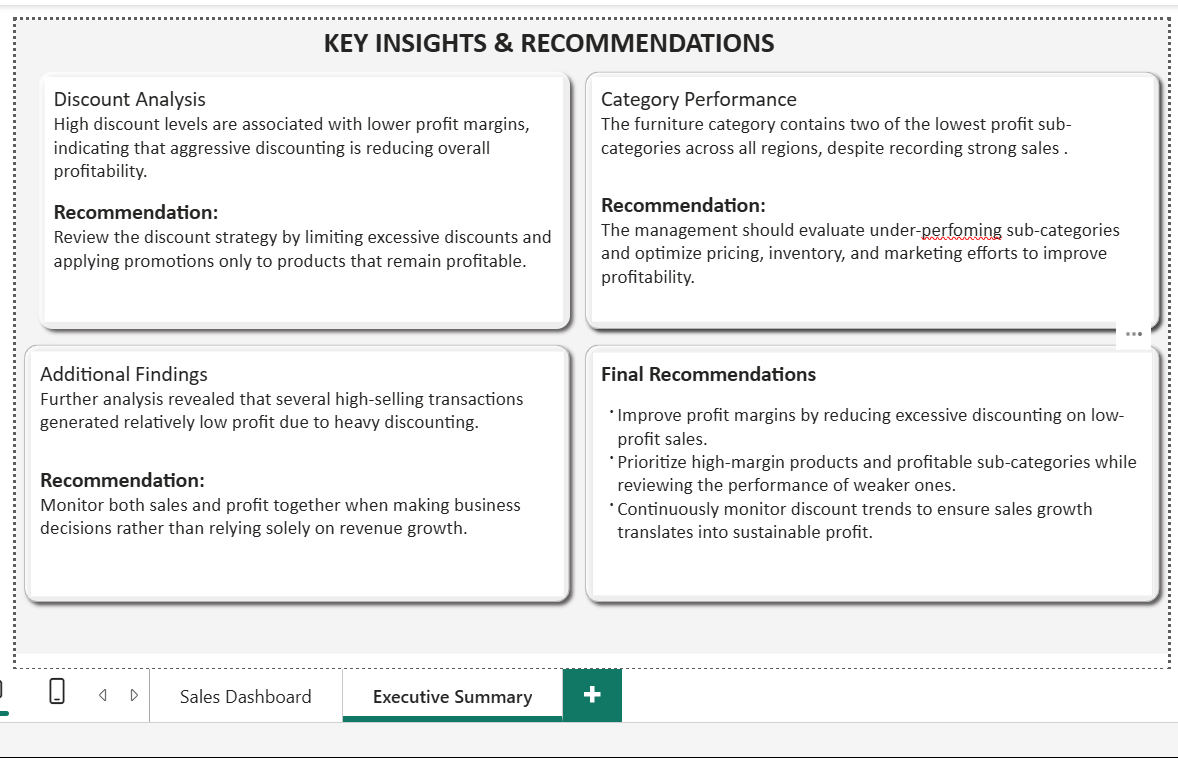

What the dashboard file says about the page in this screenshot:
{"tool":"powerbi","page":{"name":"Executive Summary","canvas":[1280,720],"ordinal":1},"visuals":[{"type":"textbox","box":[0,0,1280,704],"z":0},{"type":"shape","box":[16,48,608,304],"z":1},{"type":"shape","box":[624,48,656,304],"z":2},{"type":"shape","box":[0,352,624,304],"z":3},{"type":"shape","box":[624,352,656,304],"z":4},{"type":"textbox","box":[32,64,576,272],"z":5},{"type":"textbox","box":[640,64,624,272],"z":6},{"type":"textbox","box":[16,368,592,272],"z":7},{"type":"textbox","box":[640,368,624,272],"z":8}]}

Visuals, with their boxes on the page's 1280x720 design canvas (x1, y1, x2, y2). These are canvas units, not pixel positions in the 1178x758 screenshot, which may show the page scaled, cropped or inside an application window:
textbox: box(0, 0, 1280, 704)
shape: box(16, 48, 624, 352)
shape: box(624, 48, 1280, 352)
shape: box(0, 352, 624, 656)
shape: box(624, 352, 1280, 656)
textbox: box(32, 64, 608, 336)
textbox: box(640, 64, 1264, 336)
textbox: box(16, 368, 608, 640)
textbox: box(640, 368, 1264, 640)
